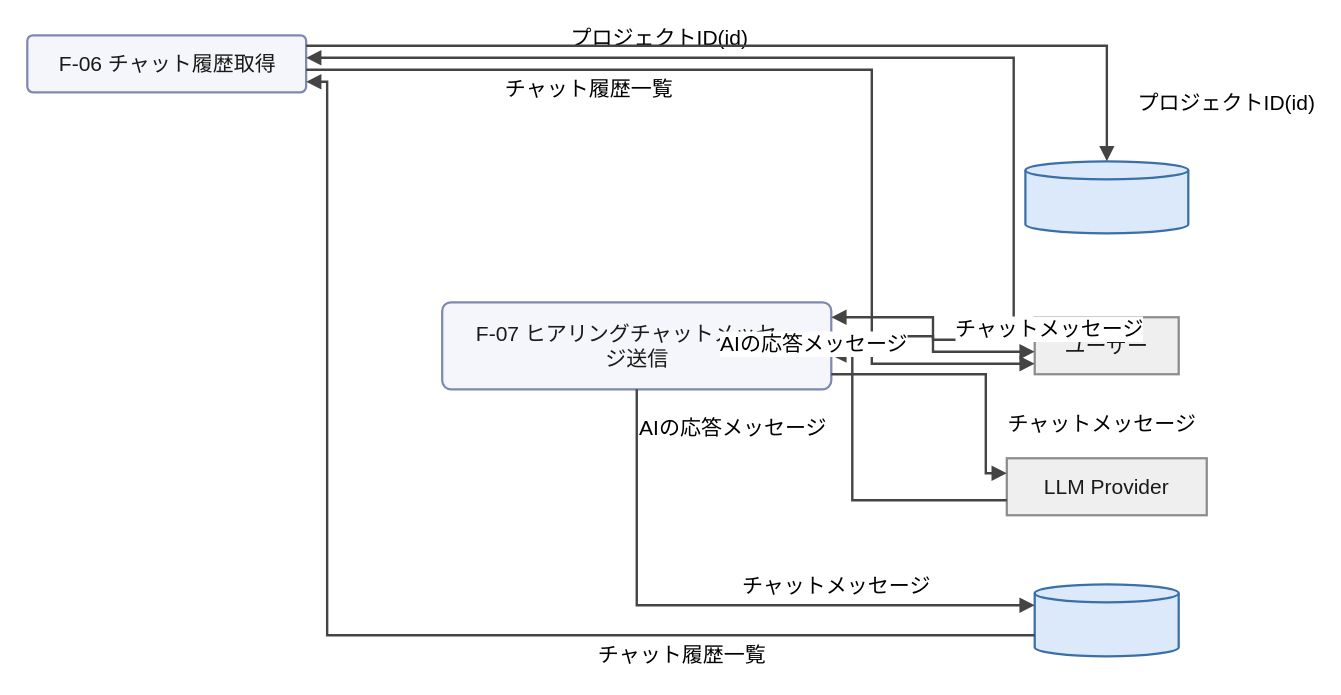
This 1341x695 diagram has some shape labels left out. The centre of each missing label's shape, as x and y in pixels:
"chats" belongs at point (1106, 619).
"projects" belongs at point (1106, 196).
